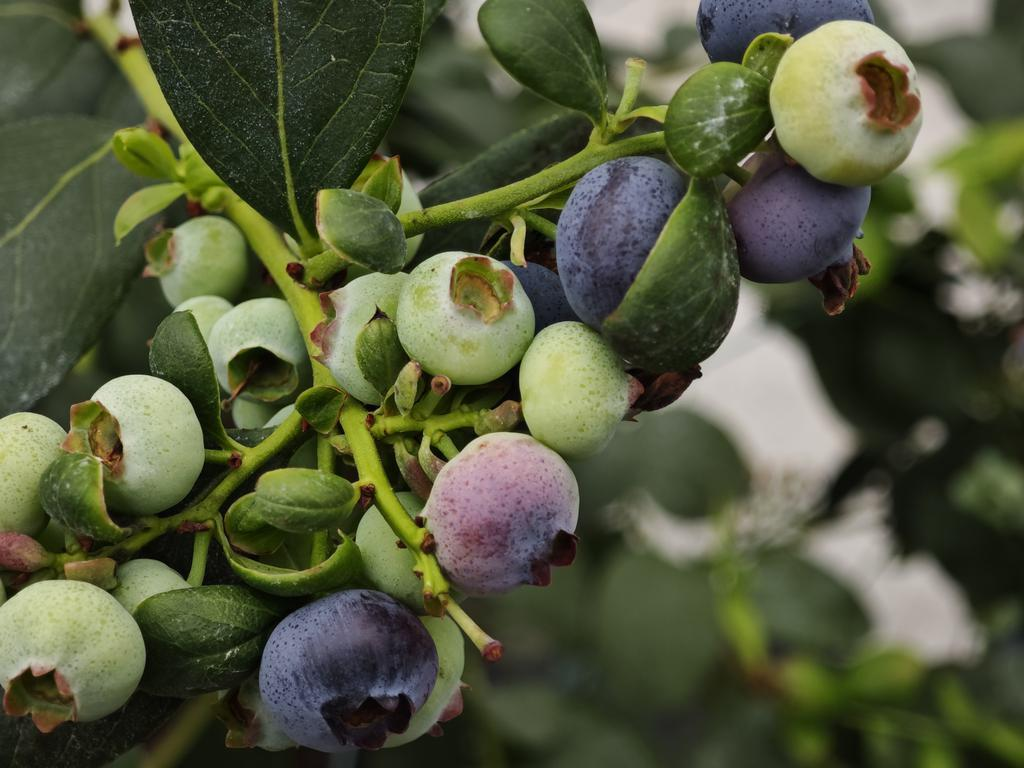RipeBlueBerry: (254, 583, 443, 759)
Semi-RipeBlueBerry: (422, 427, 588, 598)
UnripeBlueBerry: (772, 14, 926, 188), (394, 247, 540, 386)
